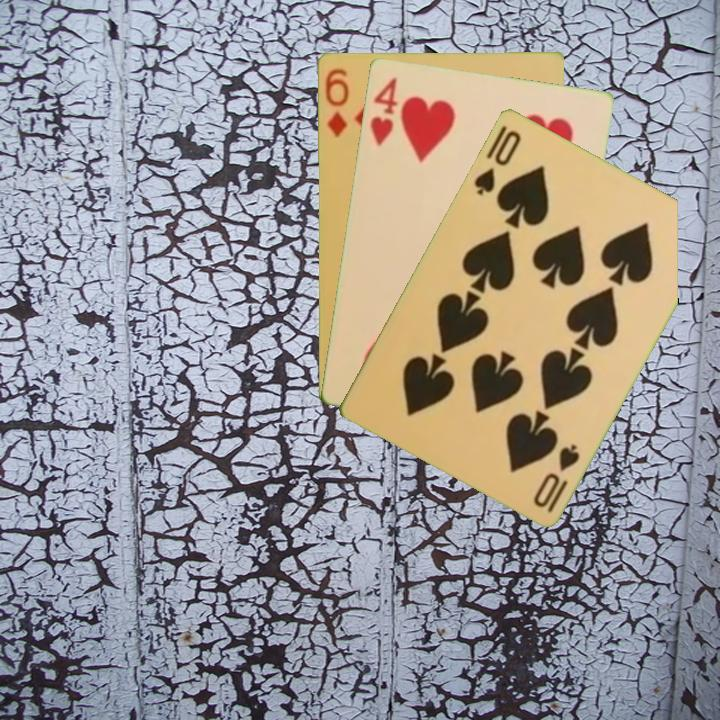10s: (530, 439, 583, 516), (470, 126, 524, 198)
4h: (366, 73, 400, 148)
6d: (321, 64, 351, 139)
